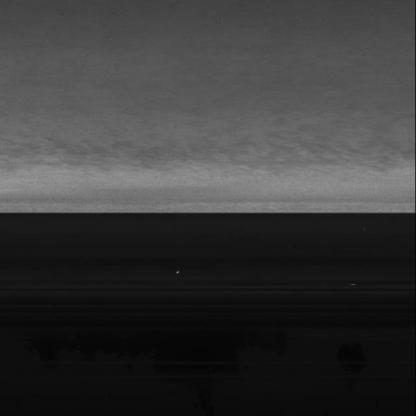silk_spot: (60, 127, 301, 188)
